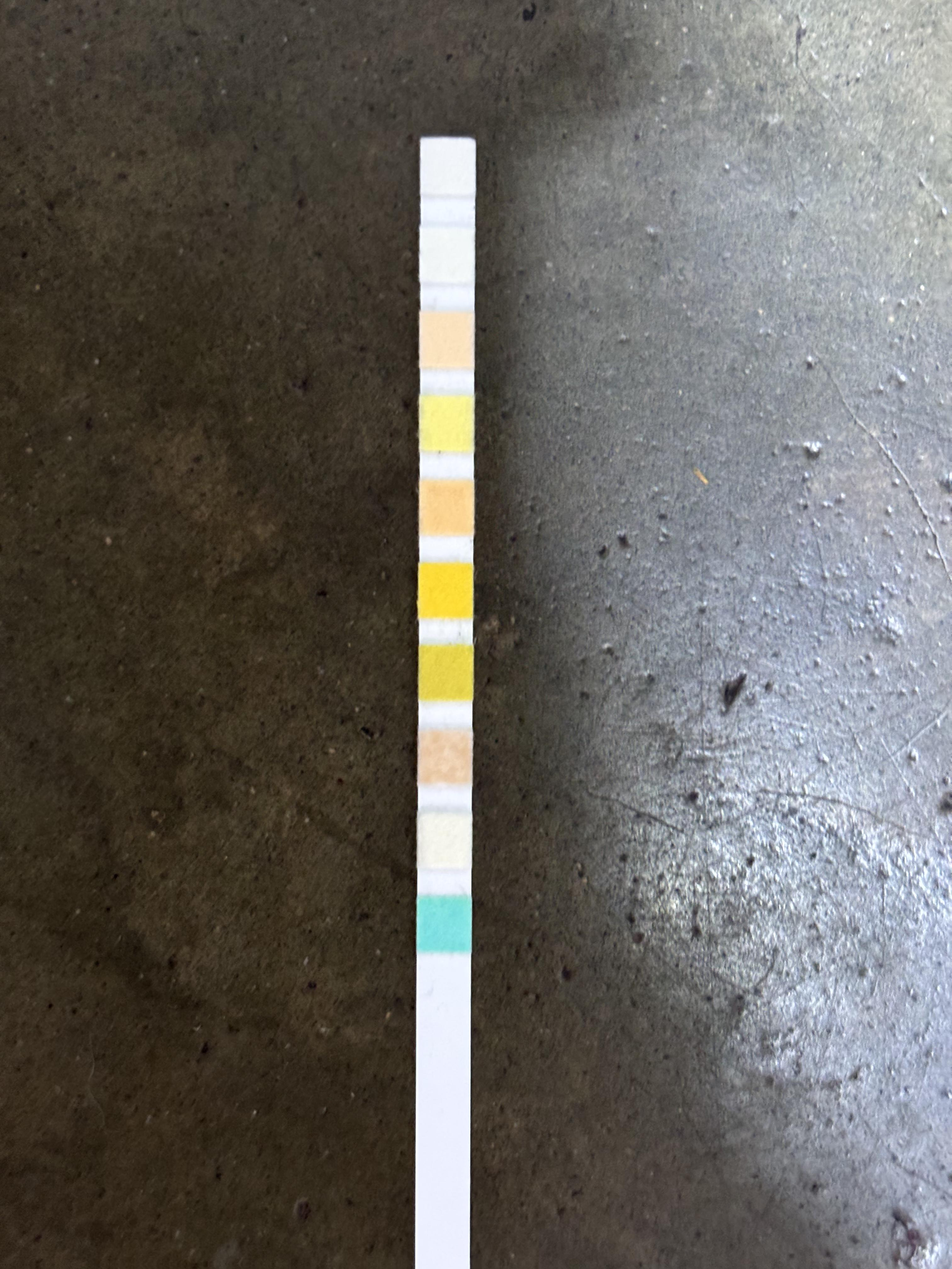Bilirubin: (420, 819, 469, 867)
Blood: (420, 565, 472, 617)
Glucose: (419, 897, 471, 951)
Ketone: (419, 735, 471, 782)
Leukocytes: (421, 144, 473, 195)
Nitrite: (421, 230, 474, 282)
Protein: (420, 397, 474, 448)
SpGravity: (420, 648, 473, 699)
Urobilinogen: (420, 314, 472, 366)
pH: (422, 482, 473, 535)
strip: (416, 136, 475, 1269)
